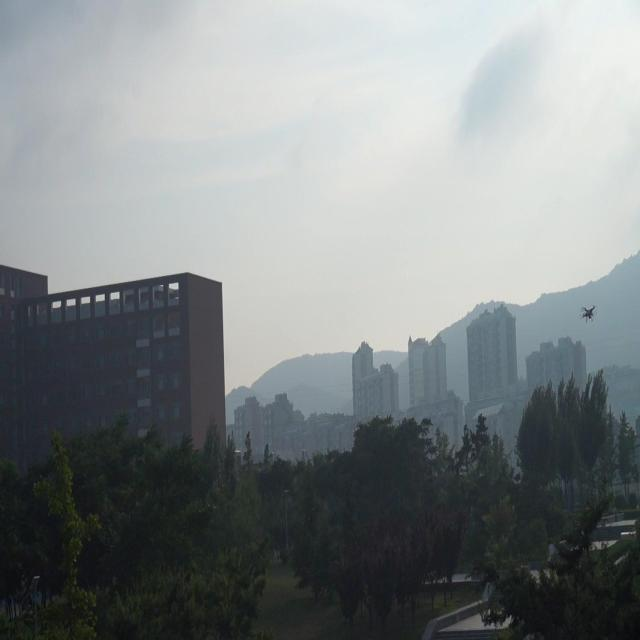drone: (578, 298, 598, 326)
